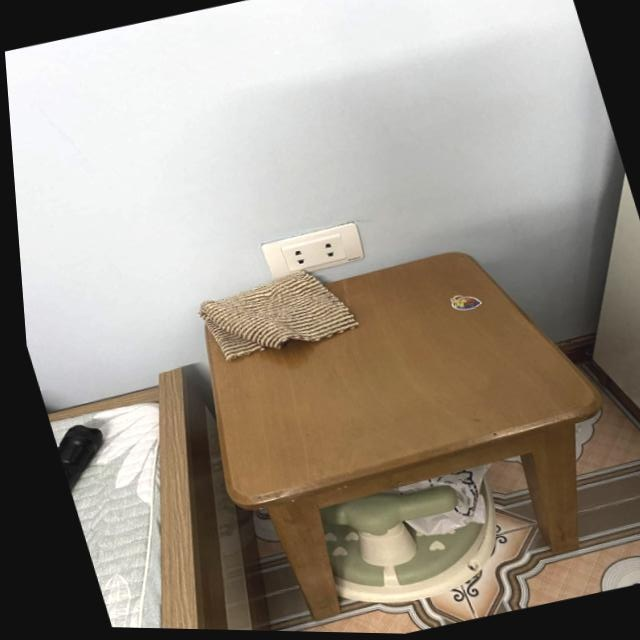outlet: (258, 218, 371, 283)
